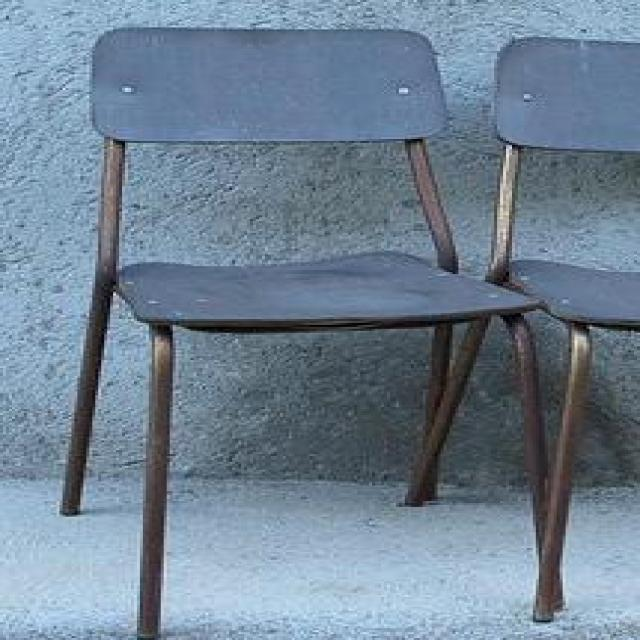chair: (57, 25, 560, 638)
